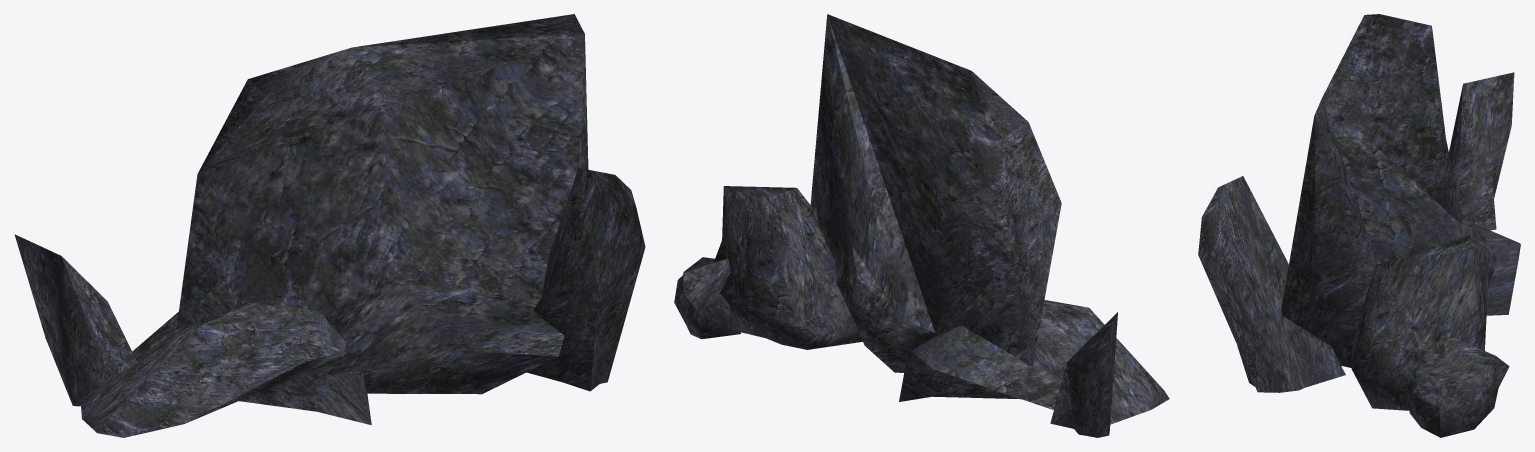
Rendered from pir_m_prp_vol_rockGroup_c.fbx.
The picture shows the model from 3 angles, left to right: view 1: azimuth 30°, elevation 25°; view 2: azimuth 150°, elevation 25°; view 3: azimuth 270°, elevation 25°; orthographic projection. The views are drawn at different scales.
Visible parts, largest first — view 1: bigrock2, small_rock4, small_rock3, small_rock5; view 2: bigrock2, bigrock, small_rock4, small_rock5, middle_rock1; view 3: bigrock2, bigrock, small_rock3, small_rock5, middle_rock1, small_rock4.
Part boxes in pixels (x1=…): bigrock2: x1=176, y1=14, x2=588, y2=394; small_rock4: x1=80, y1=302, x2=371, y2=437; small_rock3: x1=526, y1=168, x2=645, y2=391; small_rock5: x1=14, y1=234, x2=137, y2=406; bigrock2: x1=810, y1=14, x2=1061, y2=372; bigrock: x1=714, y1=186, x2=862, y2=349; small_rock4: x1=899, y1=300, x2=1169, y2=424; small_rock5: x1=1050, y1=312, x2=1117, y2=437; middle_rock1: x1=674, y1=257, x2=740, y2=339; bigrock2: x1=1281, y1=14, x2=1496, y2=367; bigrock: x1=1351, y1=235, x2=1489, y2=410; small_rock3: x1=1198, y1=176, x2=1345, y2=392; small_rock5: x1=1449, y1=72, x2=1514, y2=230; middle_rock1: x1=1406, y1=337, x2=1509, y2=437; small_rock4: x1=1461, y1=218, x2=1520, y2=315.
Size of the model in its own units: 9116 by 5398 by 5182.
1 material, 1 textured.
